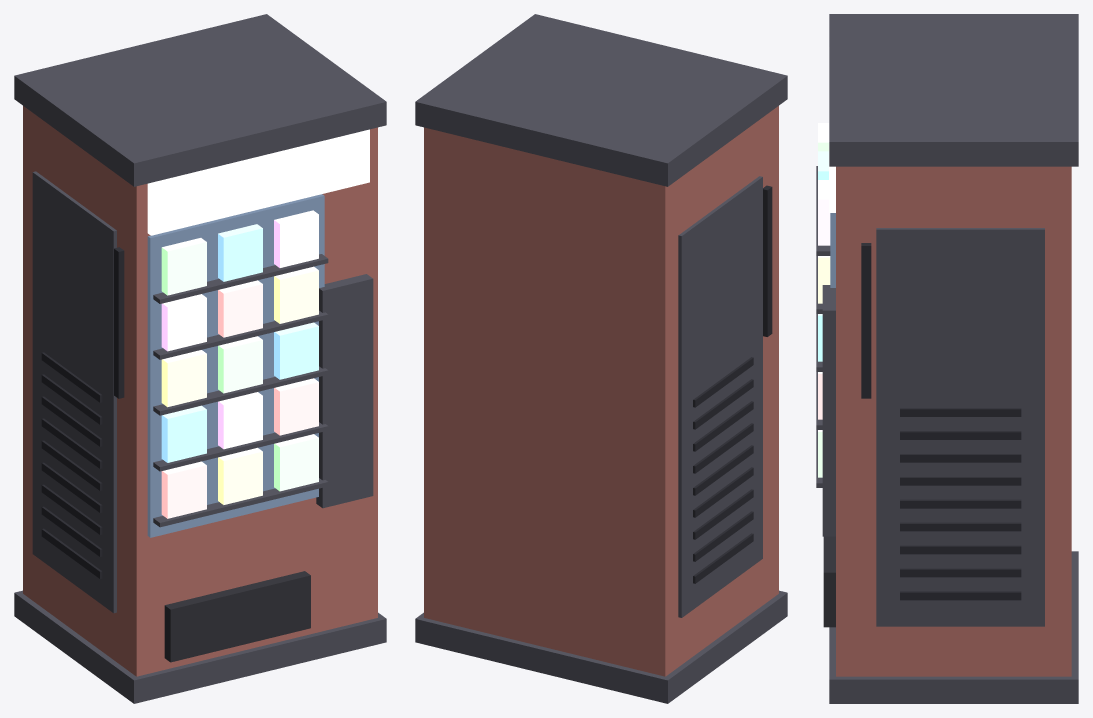
The model's file is vending.glb.
3 views of the same model, side by side, from view 1: azimuth 30°, elevation 25°; view 2: azimuth 150°, elevation 25°; view 3: azimuth 270°, elevation 25° (orthographic). The views are drawn at different scales.
Visible parts, largest first — view 1: vending; view 2: vending; view 3: vending.
Boxes of the visible parts, bbox=[...] form: vending: bbox=[14, 14, 386, 703]; vending: bbox=[415, 14, 787, 703]; vending: bbox=[816, 14, 1078, 703].
Size of the model in its own units: 0.9 by 1.84 by 0.778.
